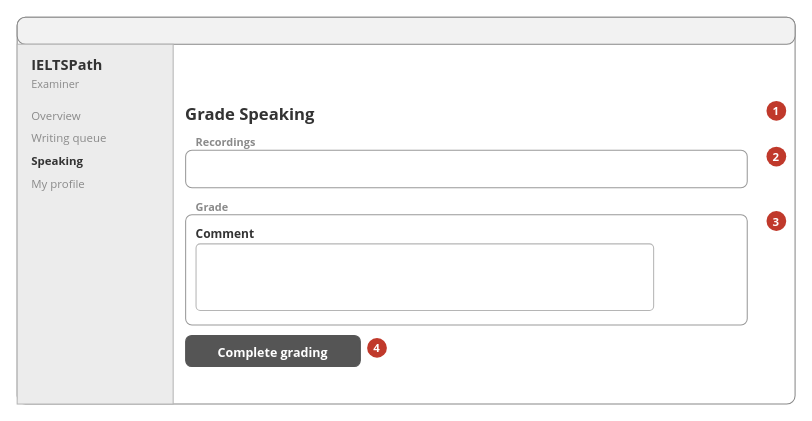
Image size: 812x421. Some labels were removed from this diagram. The centre of each missing label's shape, as x and y in pixels:
IELTSPath - Speaking Grading: the point at 405,30
Player: the point at 466,168
